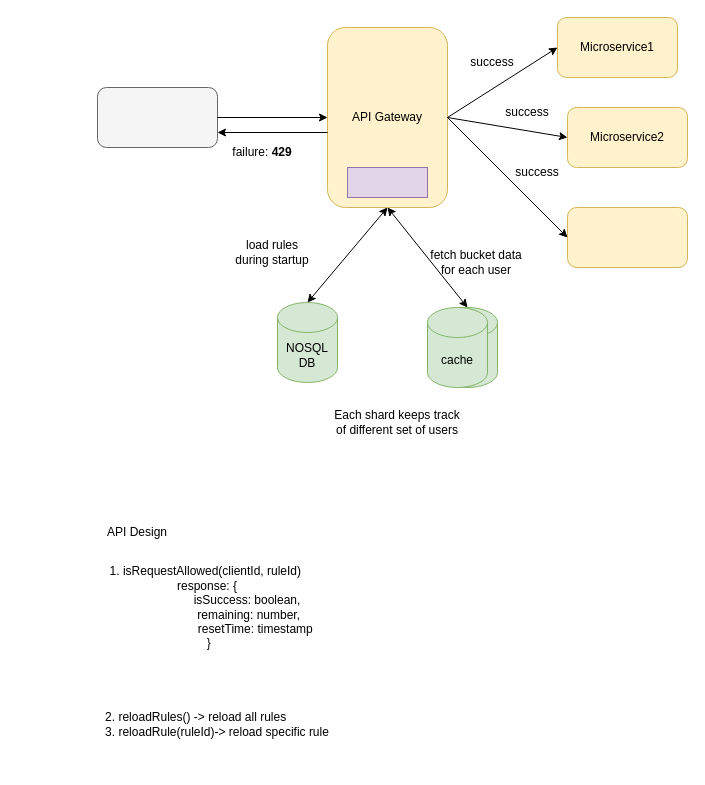
Image size: 705x785. Some labels were removed from this diagram. Each missing label, with the centre of its shape:
"clients" belongs at point 157,117.
"Microservice3" belongs at point 627,237.
"rate limiter" belongs at point 387,182.
